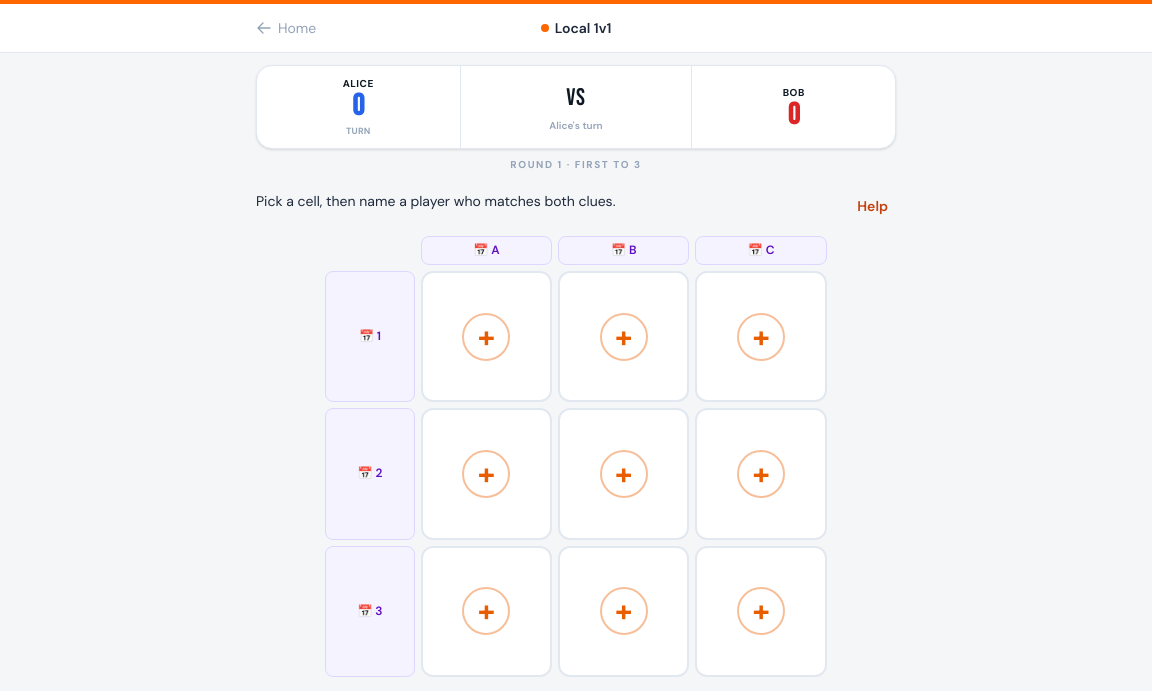
Test case: GameBoard keyboard focus restoration with the real PlayerSearch dialog › keeps focus on the attempted cell after an incorrect Local 1v1 guess resolves (game stays active)
The width and height of the screenshot is (1152, 691).
Click the button named "1 row and A column. Available. Choose a player." at (486, 337), box [421,271,552,402]
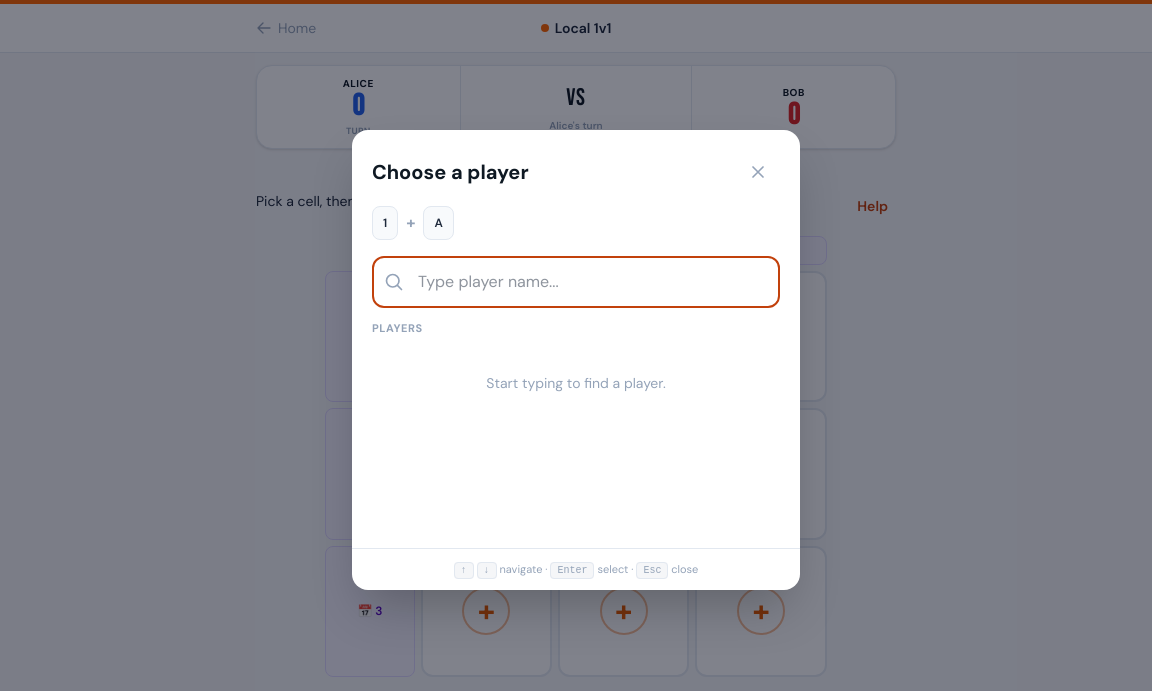
Type "nando" into the dropdown with placeholder "Type player name..." at (576, 282), box [372,256,780,308]
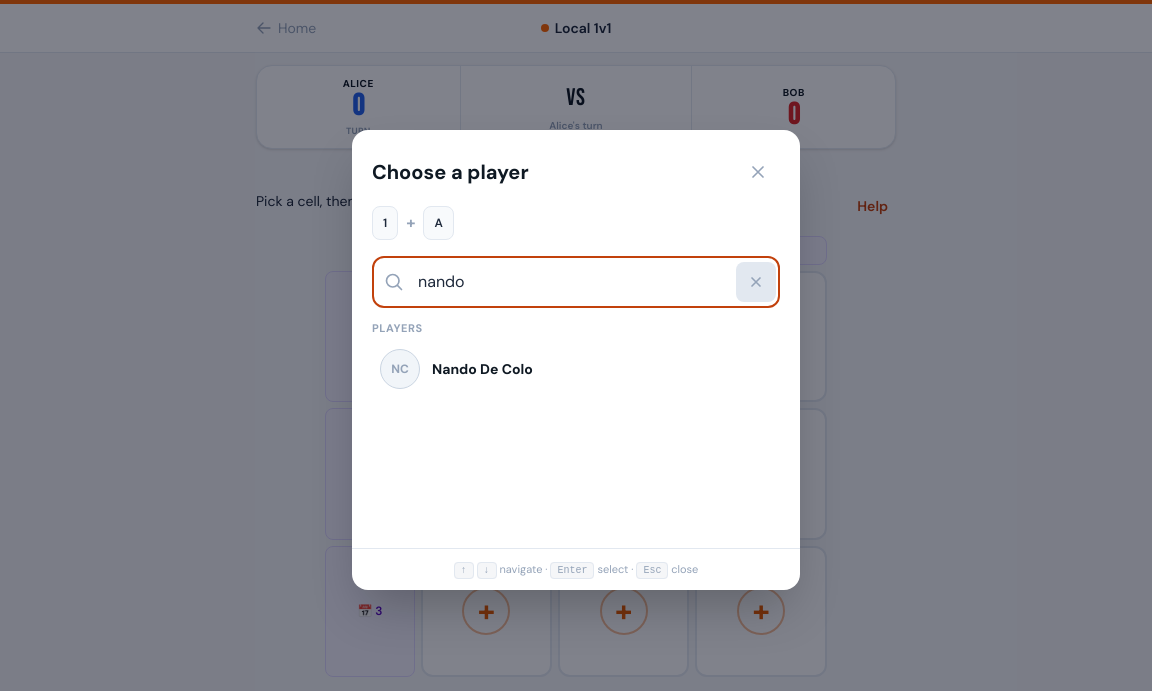
Click the text "Nando De Colo" at (482, 368), box [432,358,533,378]
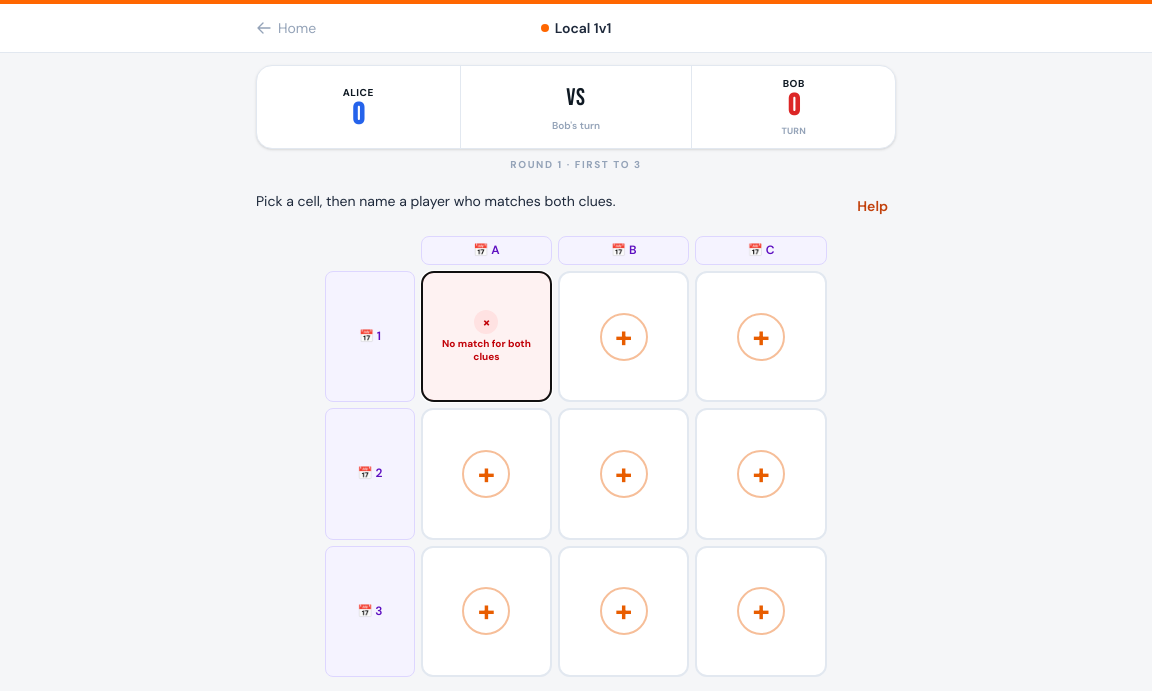
Expected: the button named "1 row and A column. Available. Choose a player." is enabled, [421,271,552,402]
